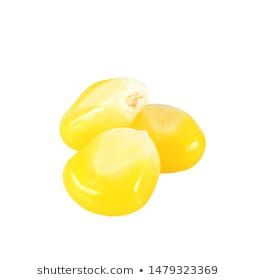corn: (63, 128, 161, 218), (56, 76, 148, 150), (132, 100, 206, 174)
